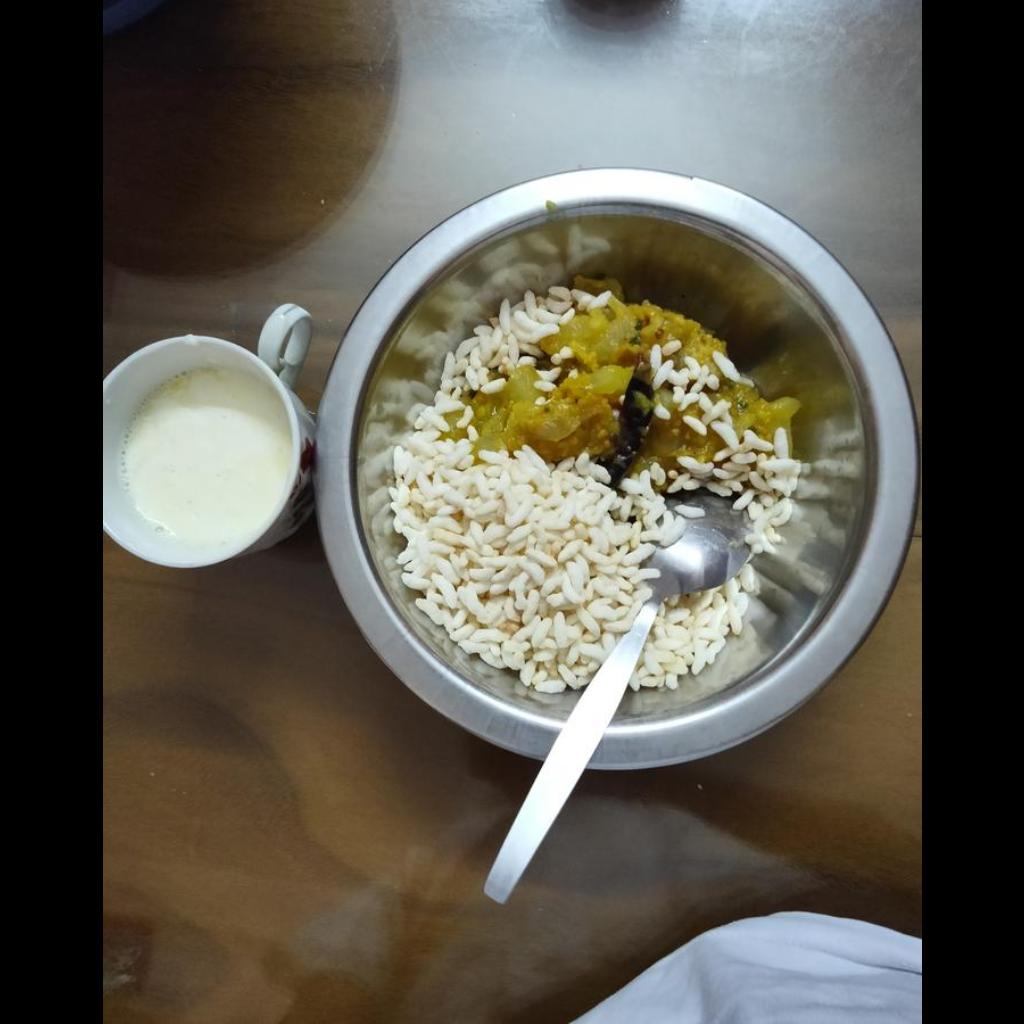milk: (123, 370, 288, 537)
puffed-rice: (395, 271, 660, 692)
